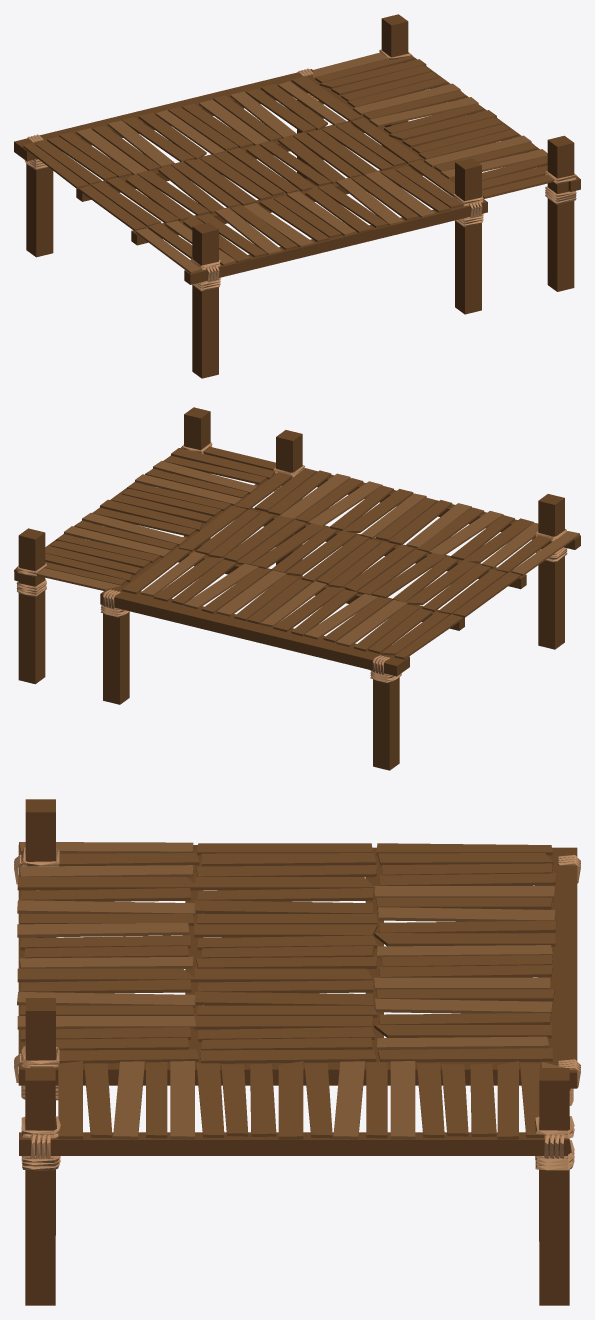
Rendered from HouseFloor_02.fbx.
3 renders of one model, top to bottom at view 1: azimuth 30°, elevation 25°; view 2: azimuth 150°, elevation 25°; view 3: azimuth 270°, elevation 25°, orthographic. The views are drawn at different scales.
Visible parts, largest first — view 1: HouseFloor_02; view 2: HouseFloor_02; view 3: HouseFloor_02.
Part boxes in pixels (x1=…): HouseFloor_02: x1=14, y1=14, x2=580, y2=378; HouseFloor_02: x1=14, y1=407, x2=580, y2=770; HouseFloor_02: x1=14, y1=799, x2=580, y2=1305.
Bounding box in the file's own units: 579 × 204 × 467.
